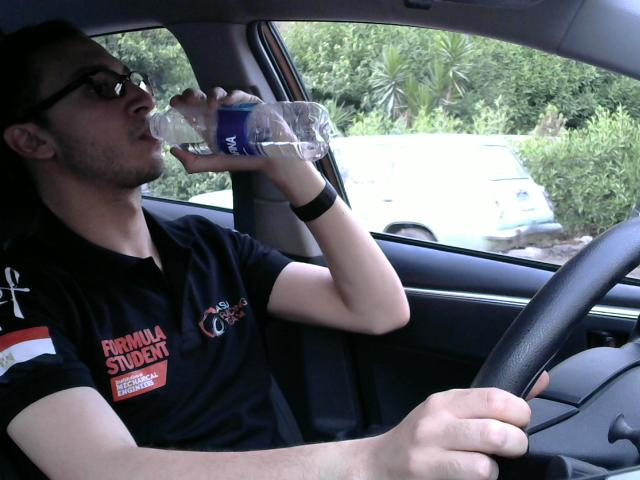Drinking: (141, 93, 338, 164)
